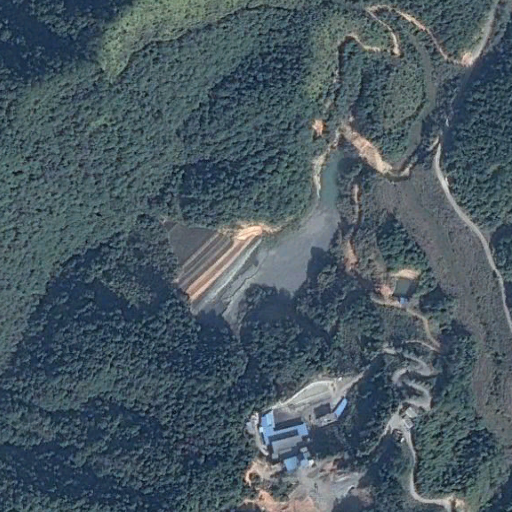tp: (155, 151, 343, 335)
